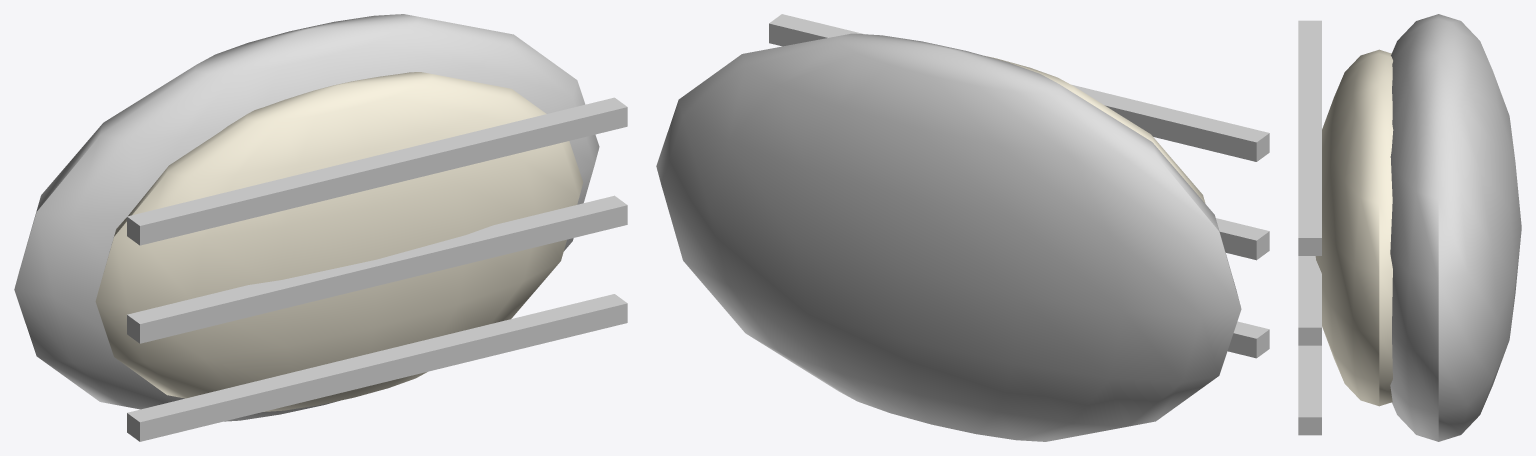
File: SM_Lamp_Bulkhead.fbx
3 views of the same model, side by side, from view 1: azimuth 30°, elevation 25°; view 2: azimuth 150°, elevation 25°; view 3: azimuth 270°, elevation 25° (orthographic). The views are drawn at different scales.
Parts seen in each view (by area): view 1: SM_Lamp_Bulkhead_1; view 2: SM_Lamp_Bulkhead_1; view 3: SM_Lamp_Bulkhead_1.
Part boxes in pixels (x1,y1,x2,y2): SM_Lamp_Bulkhead_1: (14, 14, 627, 441); SM_Lamp_Bulkhead_1: (656, 14, 1269, 441); SM_Lamp_Bulkhead_1: (1298, 14, 1521, 441).
Bounding box in the file's own units: 31.2 × 19.2 × 11.3.
